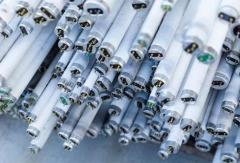lightbulb: (0, 0, 240, 162)
